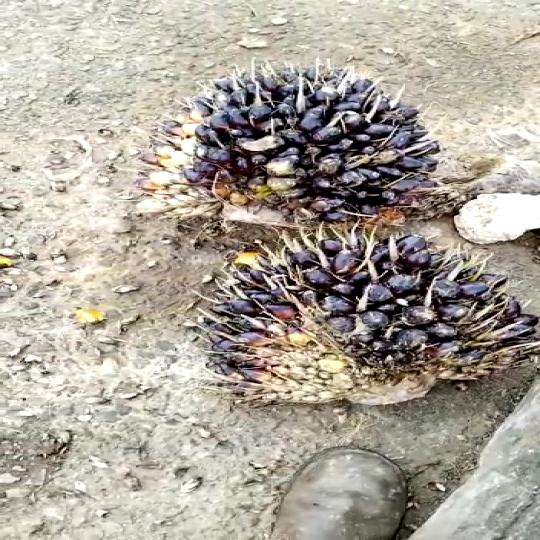mentah: (142, 63, 477, 232), (197, 234, 529, 399)
